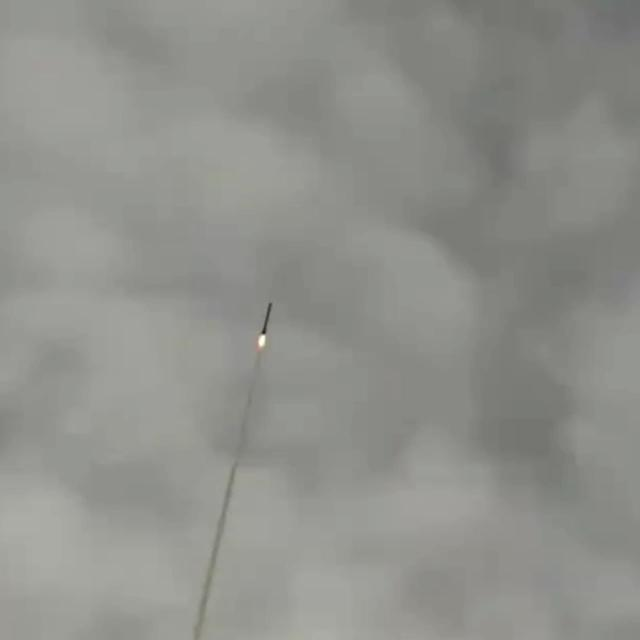smoke_trail_with_rocket: (188, 301, 272, 640)
